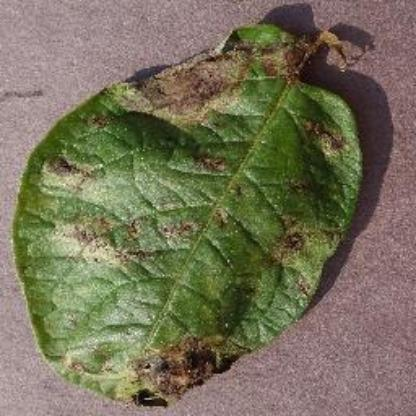Late-Blight: (12, 16, 374, 404)
